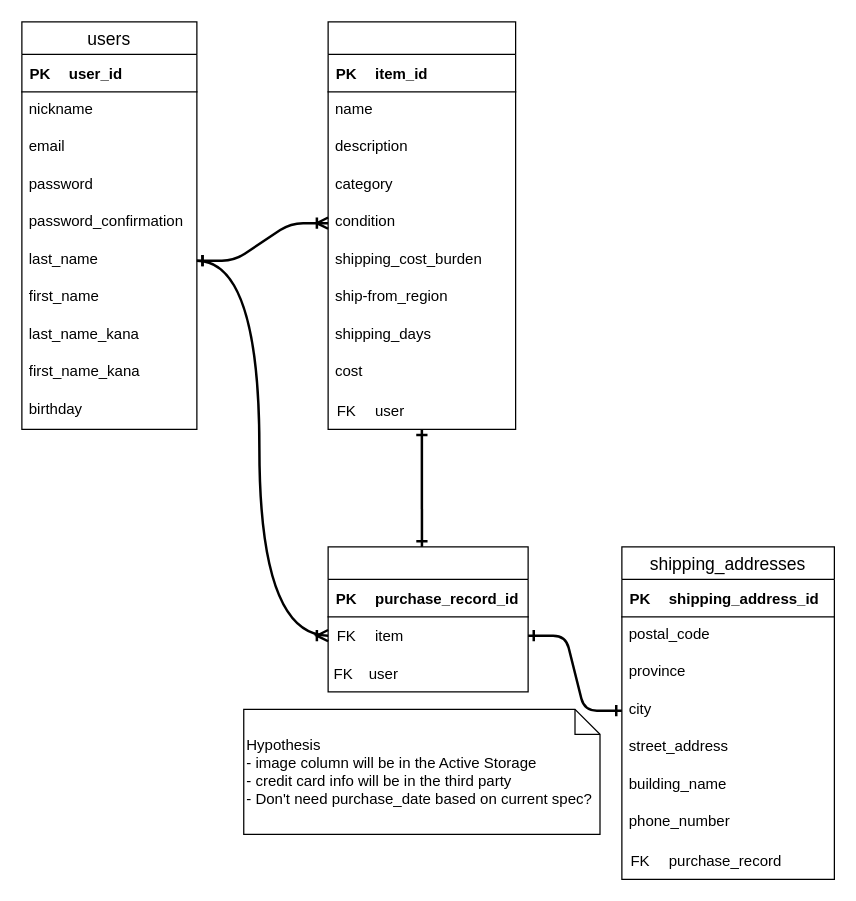
Some shapes in this 856 by 901 pixel diagram are drawn without their labels. The box of each missing label's shape, as (x1, y1, x2, y2) in pixels:
items: (327, 21, 516, 429)
purchase_records: (327, 546, 528, 692)
